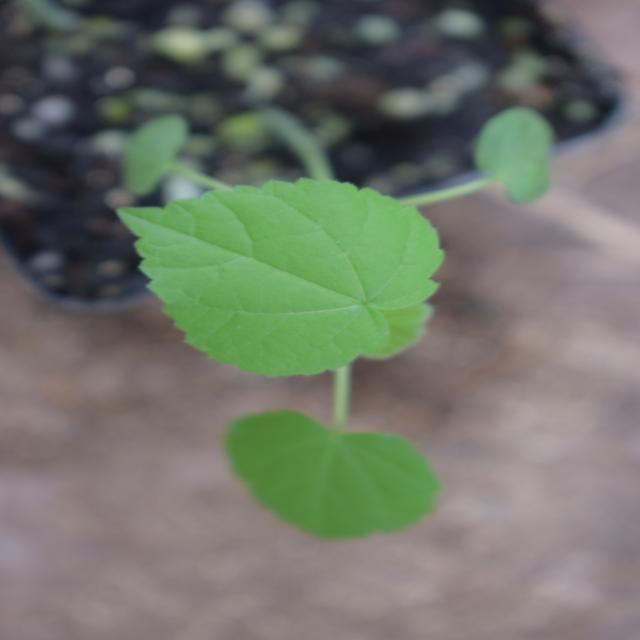abutilon theophrasti: (113, 60, 484, 547)
